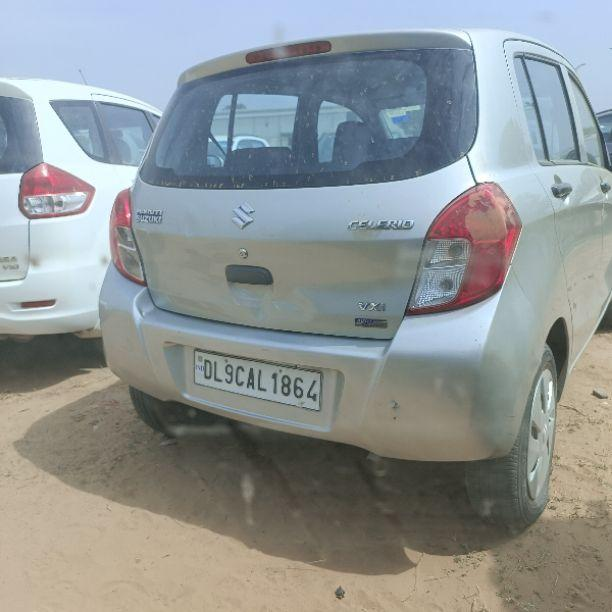license_plate: (191, 347, 324, 412)
